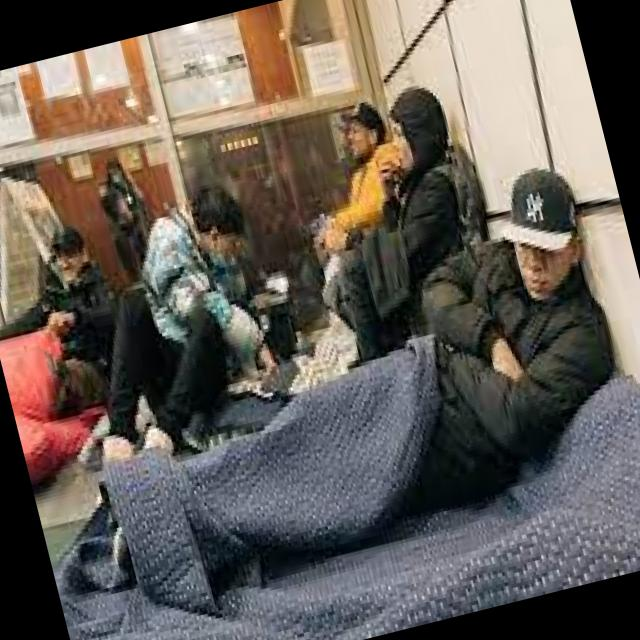Jacket: (378, 225, 640, 502), (307, 145, 524, 381), (131, 234, 292, 414)
